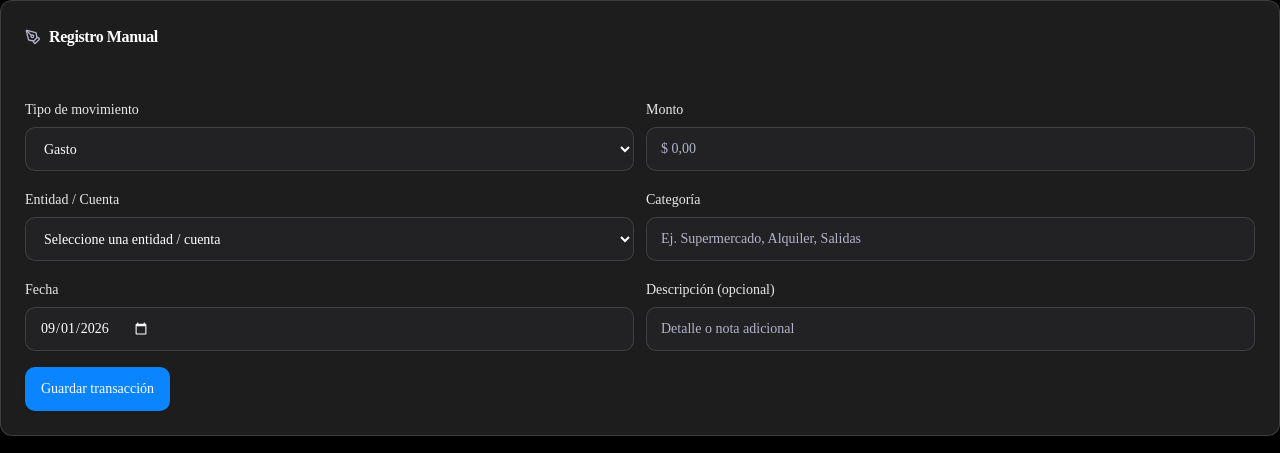
ManualTransactionForm › Transfer Registration › renders transfer option in type select and shows origin and destination selects when selected
Select "Transferencia" in the dropdown labelled "Tipo de movimiento" at [330, 149], box [25, 127, 634, 171]
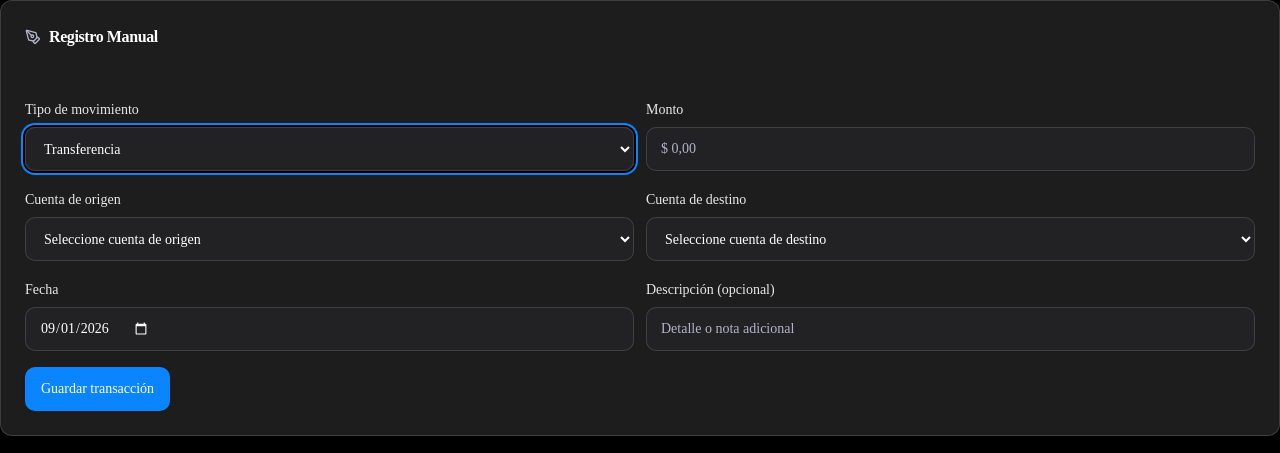
Expected: the dropdown labelled "Cuenta de origen" is shown, [25, 217, 634, 261]
Now the dropdown labelled "Cuenta de destino" is shown, box [646, 217, 1255, 261]
